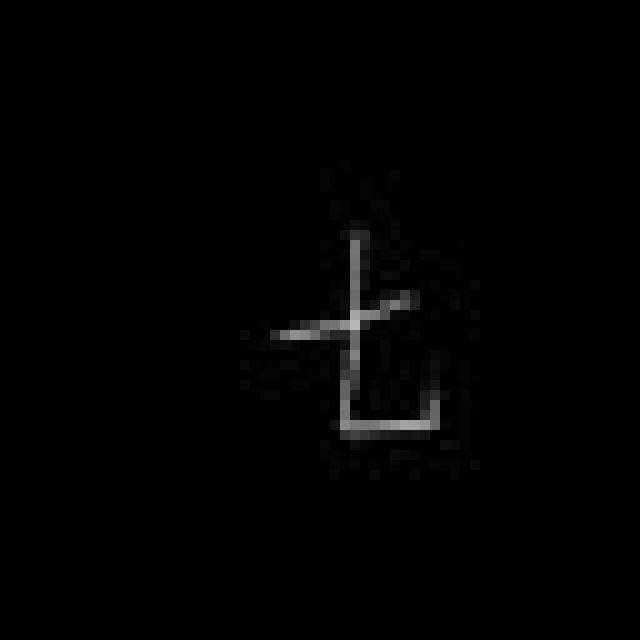7 -seven-: (265, 225, 453, 448)
